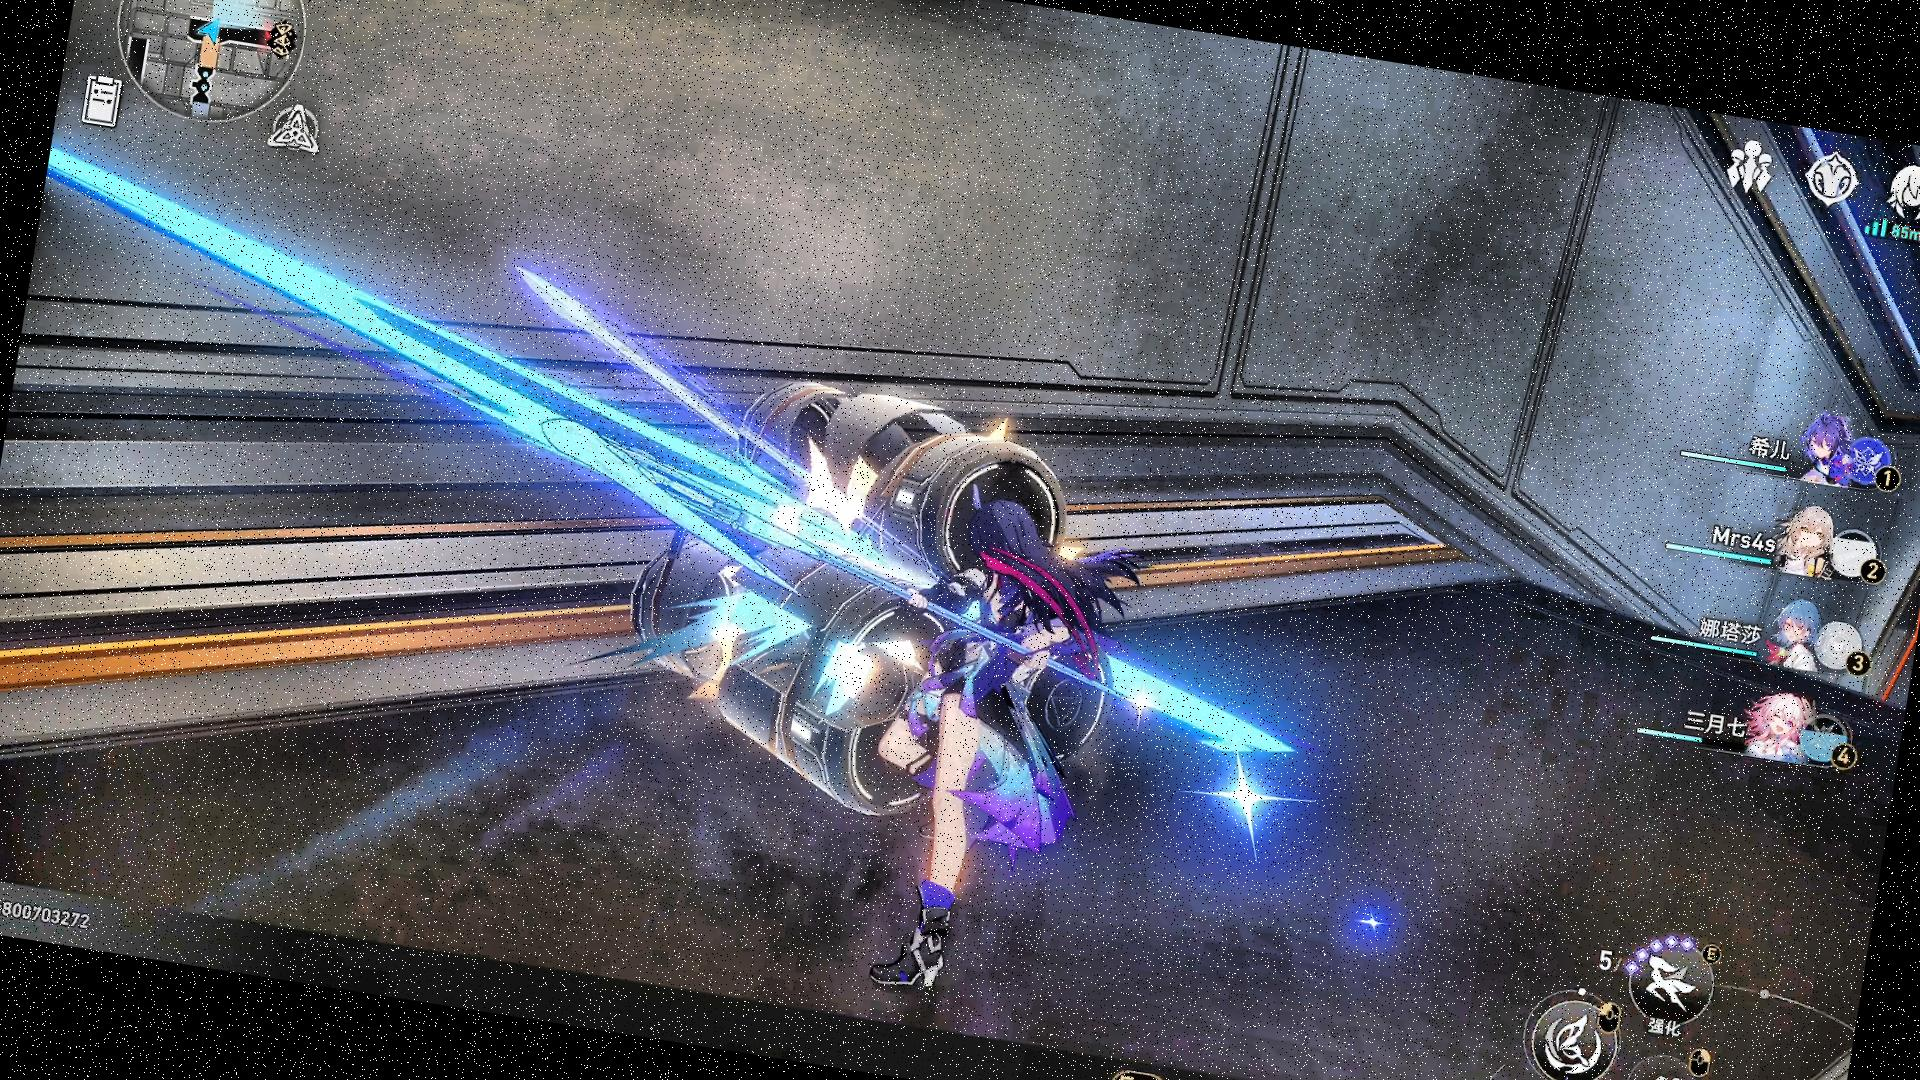Box: (611, 357, 1160, 820)
Self: (862, 491, 1097, 1014)
